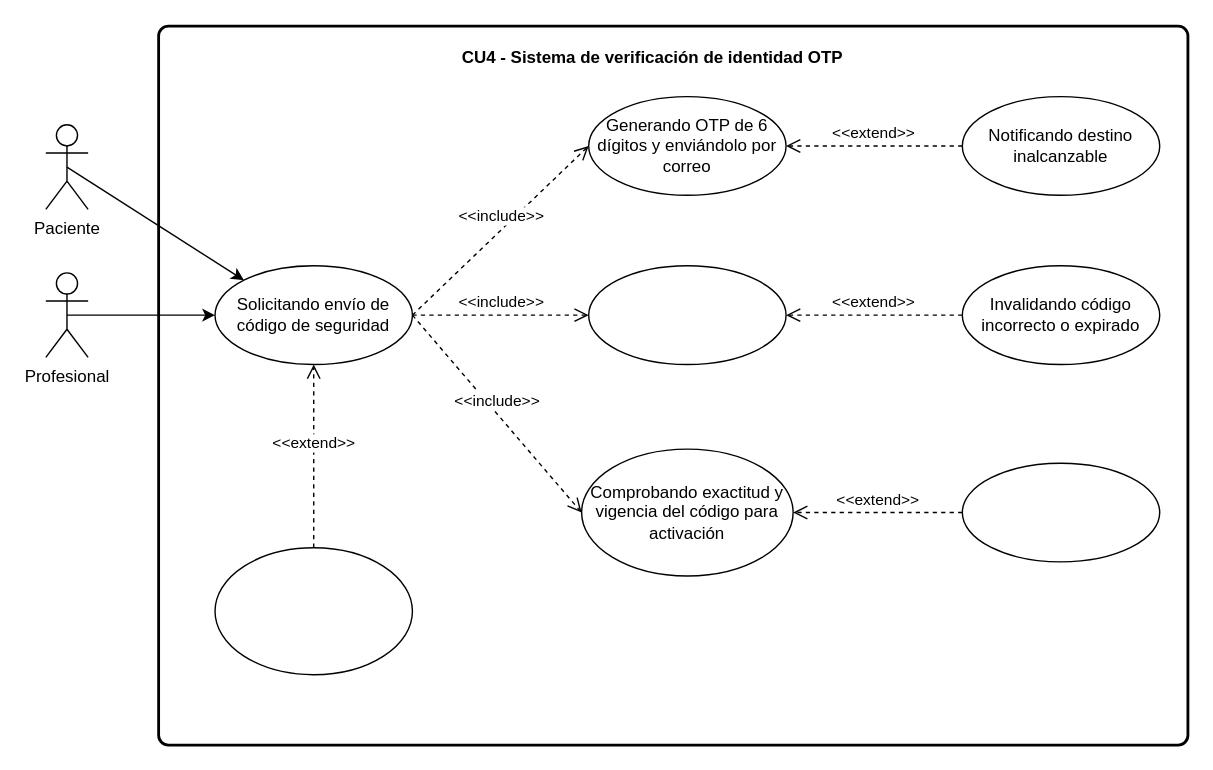
The diagram is 1213 pixels wide and 770 high, and some of its shapes have lost their labels. The shapes that lost their labels are listed below. From the top down, each one's centre as x and y in pixels, then its label:
At (686,314): "Ingresando código en formulario de activación".
At (1060,512): "Notificando falla de persistencia del perfil".
At (313,610): "Registrando fallo del servicio de correo y habilitando reintento".
